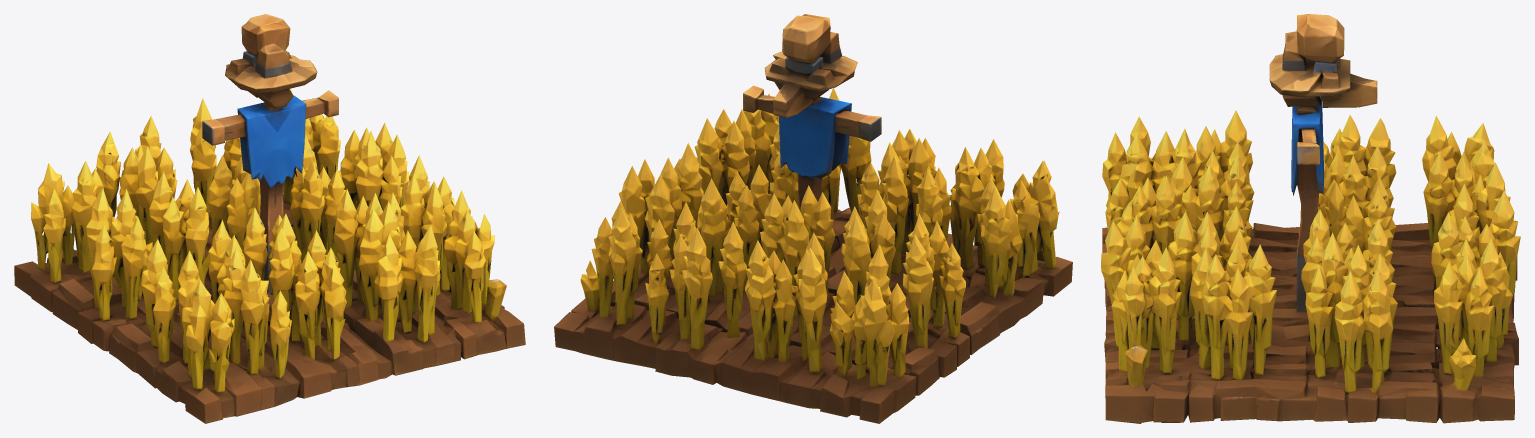
Rendered from field.glb.
The picture shows the model from 3 angles, left to right: view 1: azimuth 30°, elevation 25°; view 2: azimuth 150°, elevation 25°; view 3: azimuth 270°, elevation 25°; orthographic projection. The views are drawn at different scales.
Visible parts, largest first — view 1: model; view 2: model; view 3: model.
Boxes of the visible parts, left/top/right/bottom form: model: left=14, top=14, right=525, bottom=423; model: left=554, top=14, right=1072, bottom=423; model: left=1101, top=14, right=1520, bottom=423.
Size of the model in its own units: 1.85 by 1.61 by 1.9.
1 material, 1 textured.
